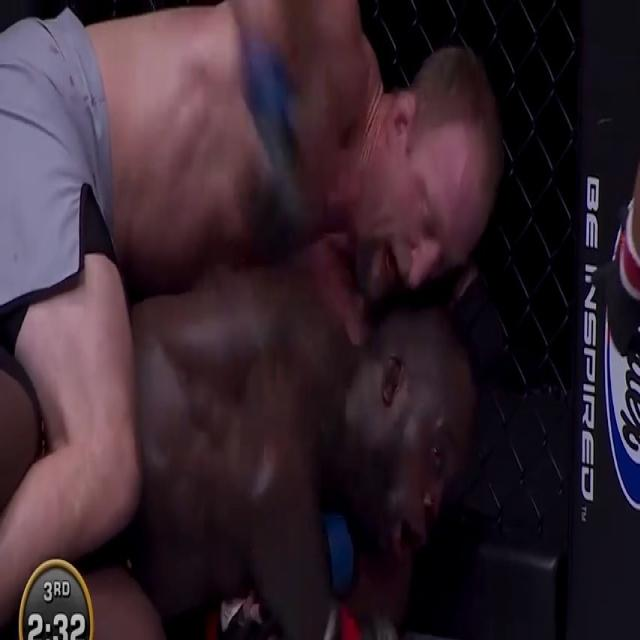fight: (4, 0, 528, 639)
